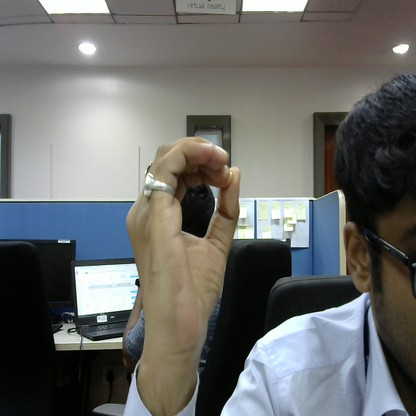o: (117, 130, 258, 347)
